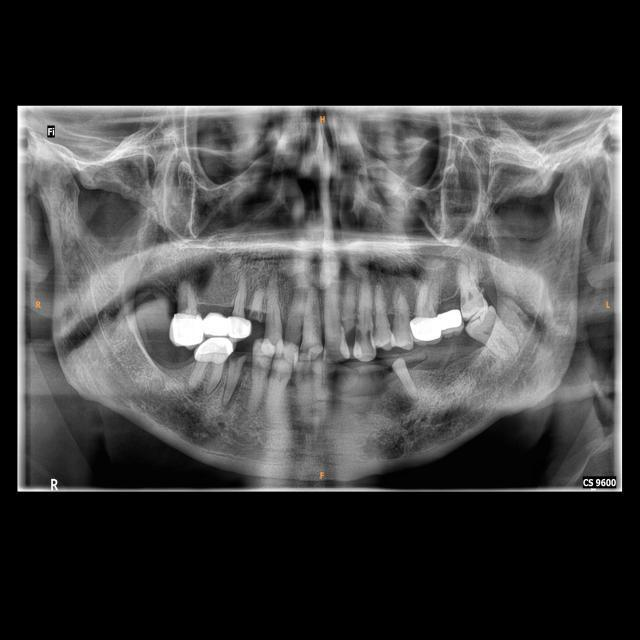dentin-curugu: (342, 322, 368, 348)
kaplama: (170, 308, 202, 348), (195, 337, 232, 364), (409, 316, 442, 342), (227, 314, 252, 343)
kirik: (243, 307, 268, 327), (228, 349, 250, 369)
kopru: (194, 305, 240, 338), (428, 300, 474, 333)
